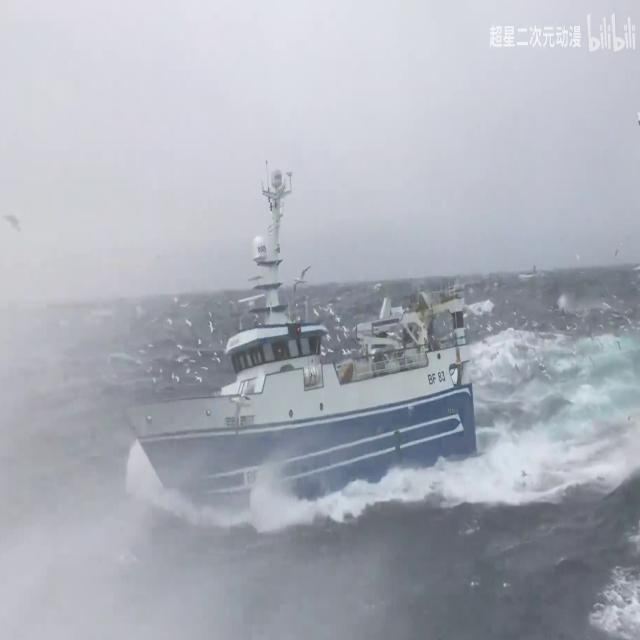houseboat: (117, 166, 478, 495)
